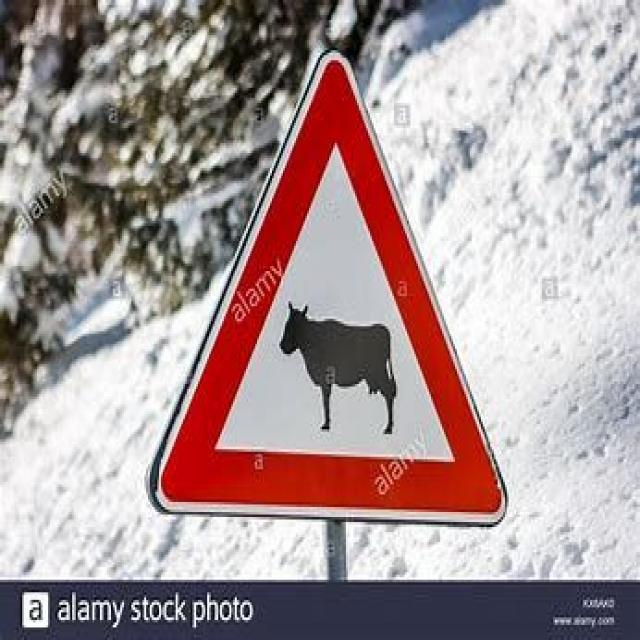CATTLE: (142, 45, 508, 532)
